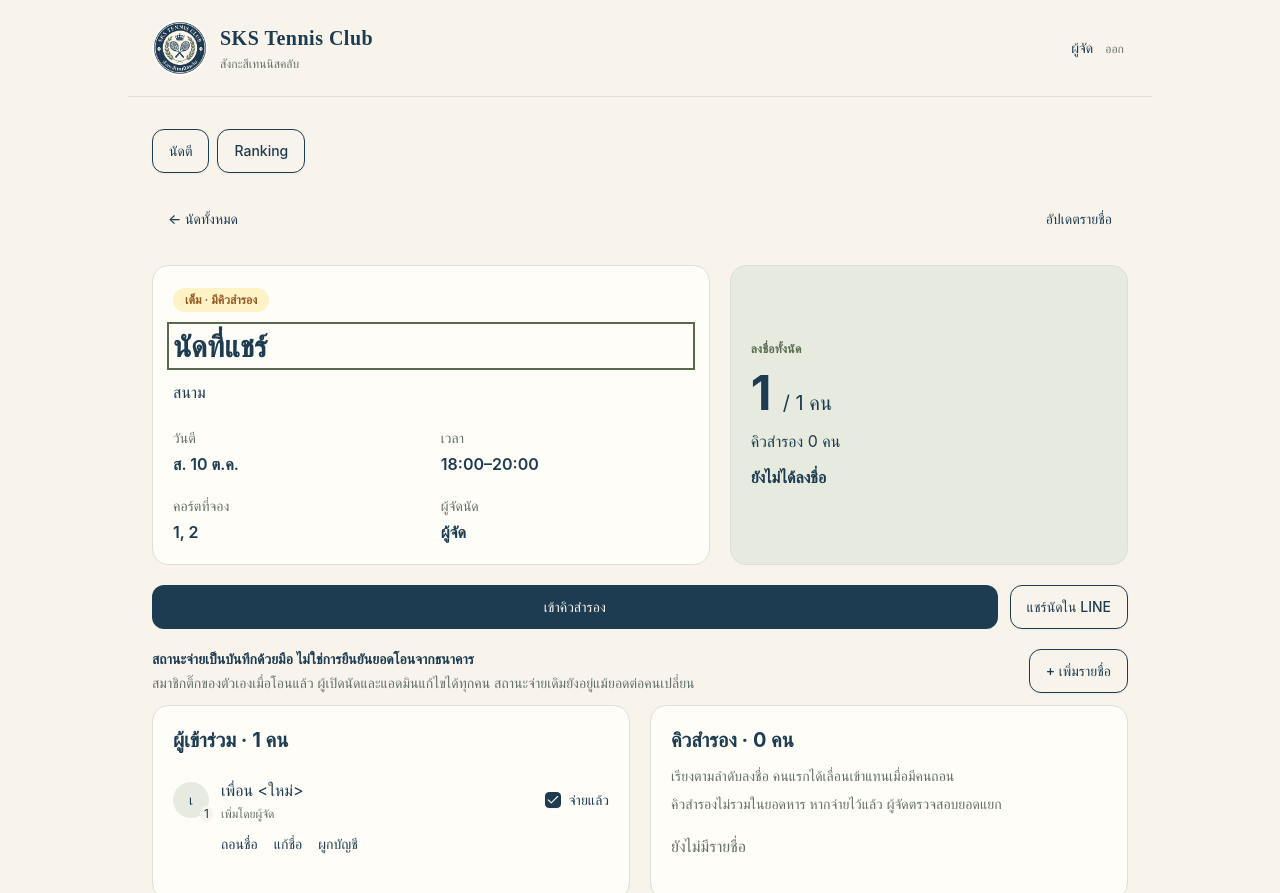
failed payment leaves the checkbox unchanged; successful response updates roster and server-calculated costs
The image size is (1280, 893).
Click the checkbox named "จ่ายแล้ว: เพื่อน <ใหม่>" at x=553, y=800, box [545,792,561,808]
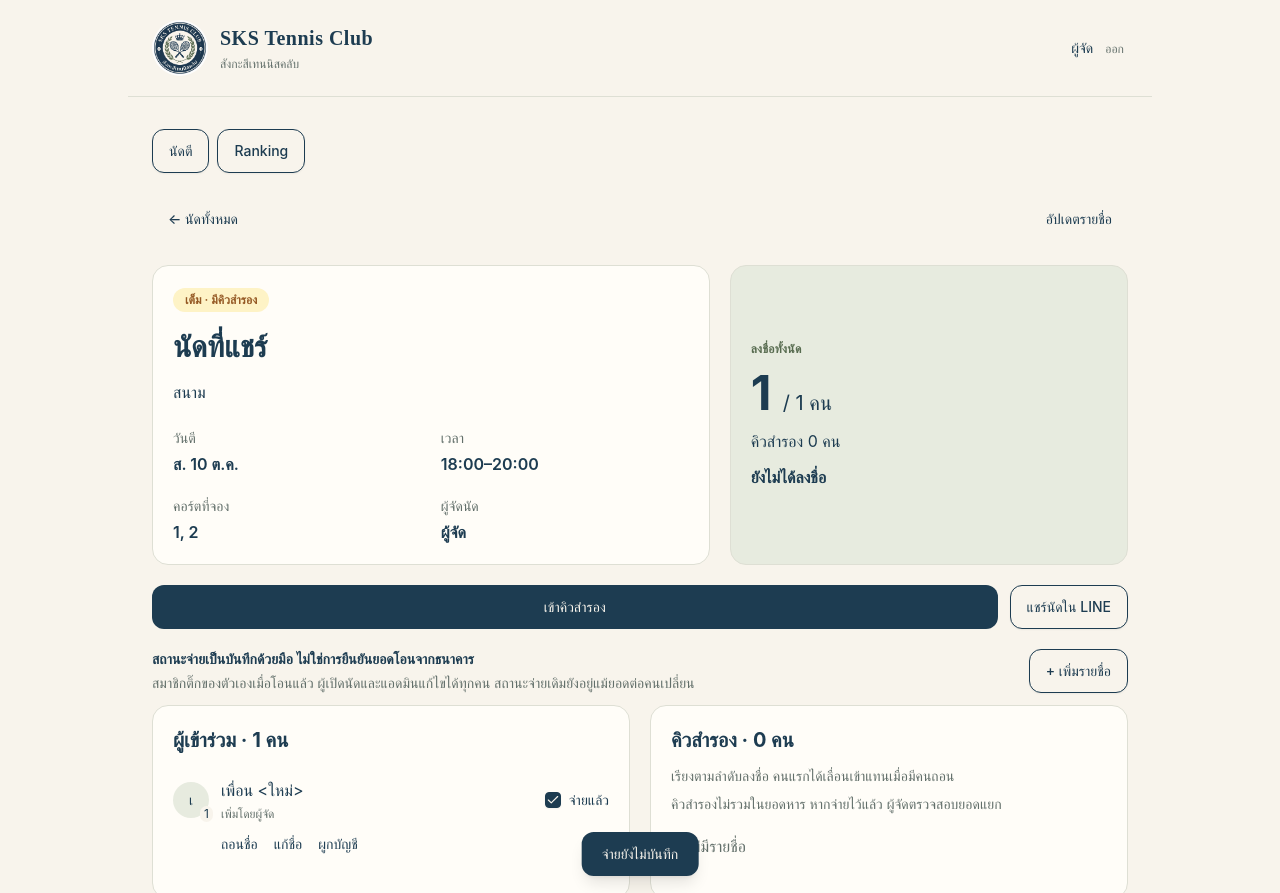
Result: the text "จ่ายยังไม่บันทึก" is shown at [582,832,698,876]
Click the checkbox named "จ่ายแล้ว: เพื่อน <ใหม่>" at x=553, y=800, box [545,792,561,808]
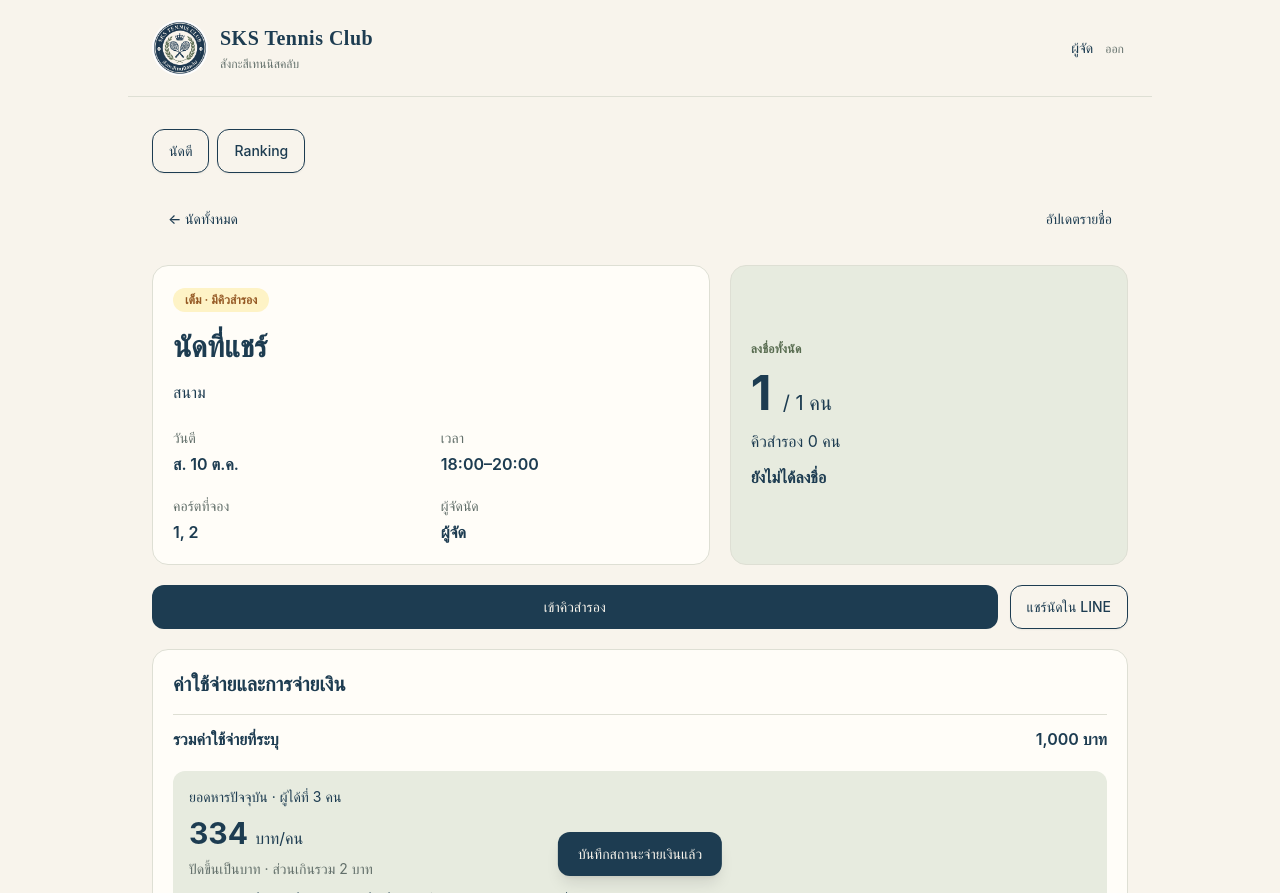
Result: the text "ปัดขึ้นเป็นบาท · ส่วนเกินรวม 2 บาท" is shown at [189,860,373,877]
Result: the text "ยอดหารปัจจุบัน · ผู้ได้ที่ 3 คน" is shown at [189,788,341,805]
